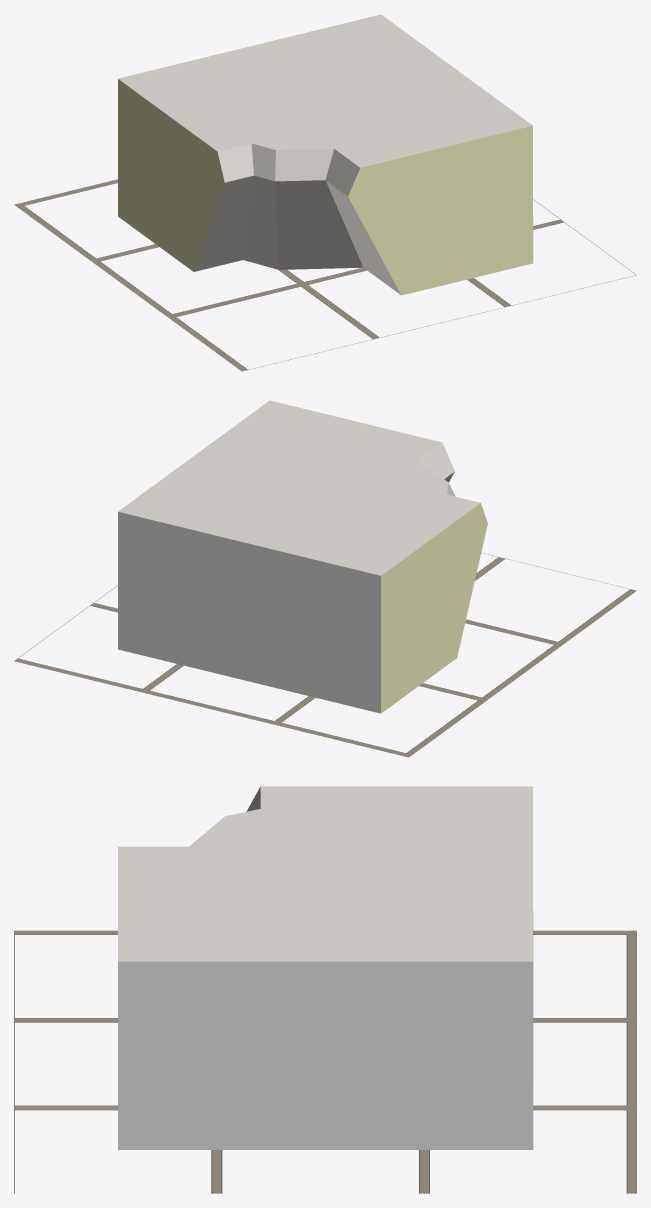
The model's file is Cracked_Curve_Inner_2x2_1_Top.glb.
3 views of the same model, one above another, from view 1: azimuth 30°, elevation 25°; view 2: azimuth 150°, elevation 25°; view 3: azimuth 270°, elevation 25° (orthographic). The views are drawn at different scales.
Visible parts, largest first — view 1: Cracked_Curve_Inner_2x2_1_Top, Floor; view 2: Cracked_Curve_Inner_2x2_1_Top, Floor; view 3: Cracked_Curve_Inner_2x2_1_Top, Floor.
Boxes of the visible parts, <box> form: Cracked_Curve_Inner_2x2_1_Top: <box>118,14,533,295</box>; Floor: <box>14,179,636,371</box>; Cracked_Curve_Inner_2x2_1_Top: <box>118,400,487,713</box>; Floor: <box>14,552,636,757</box>; Cracked_Curve_Inner_2x2_1_Top: <box>118,786,533,1149</box>; Floor: <box>14,930,636,1193</box>.
Bounding box in the file's own units: 300 × 100 × 300.
Materials: 4 (1 with a texture image).
